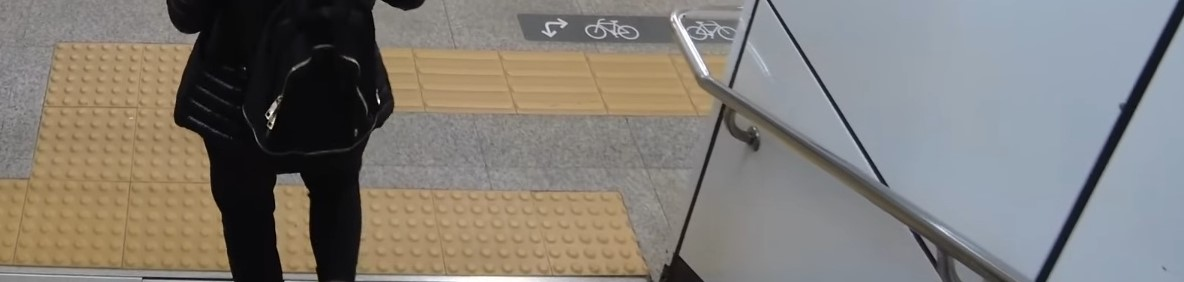guideBlock: (501, 47, 609, 122), (587, 47, 700, 117), (404, 44, 509, 103)
warningBlock: (5, 176, 128, 273), (526, 188, 660, 277), (126, 180, 228, 270), (239, 185, 354, 262), (430, 191, 531, 270), (31, 109, 144, 174), (355, 185, 436, 273), (137, 108, 216, 181), (129, 41, 221, 93), (47, 43, 134, 94)
